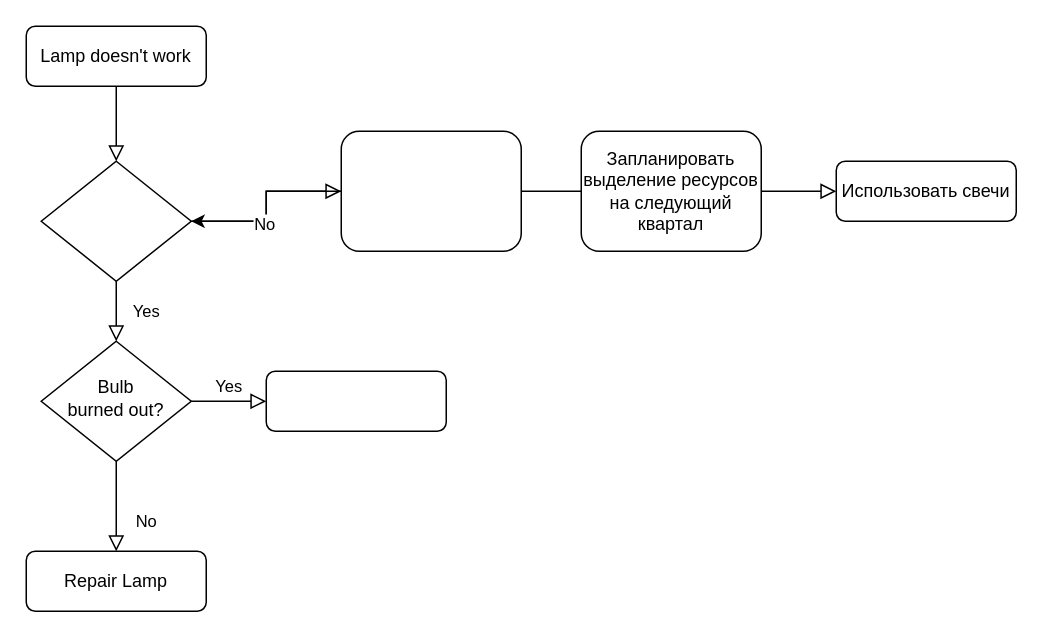
Some shapes in this 1043 by 638 pixel diagram are drawn without their labels. Here are the shapes that lost their labels. From the top down, the centre of each, then its label:
pixel 430 190: Решить сколько программистов нужно чтобы заменить лампочку
pixel 115 220: Lamp plugged in?
pixel 355 400: Replace Bulb
